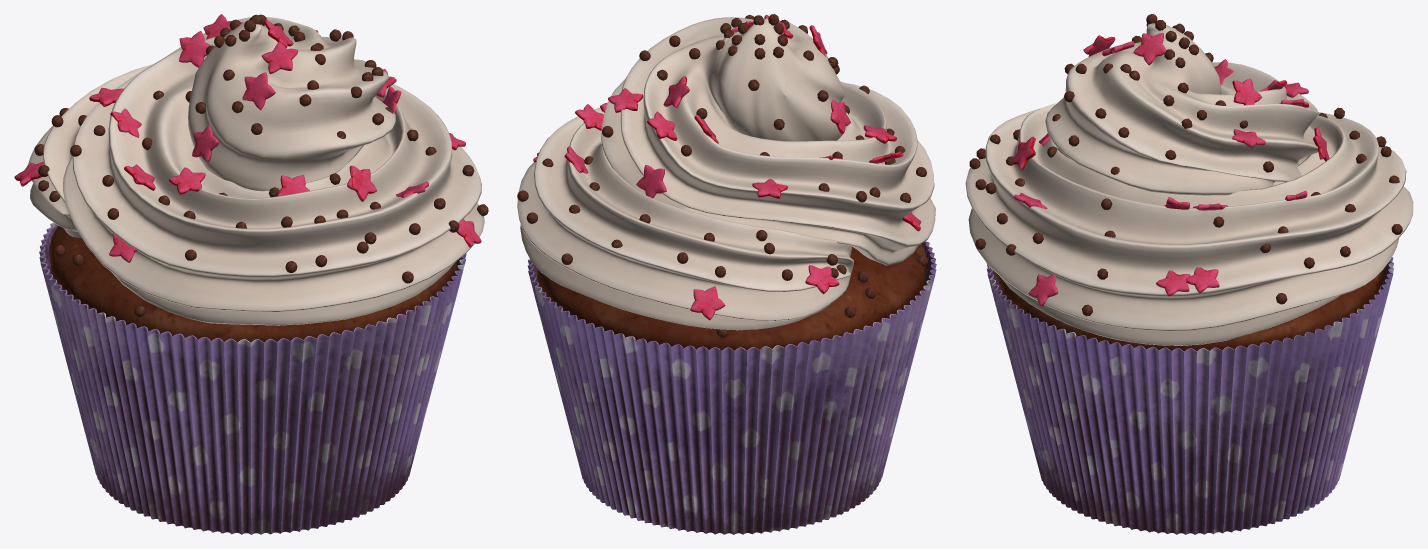
Rendered from cake.glb.
3 renders of one model, left to right at view 1: azimuth 30°, elevation 25°; view 2: azimuth 150°, elevation 25°; view 3: azimuth 270°, elevation 25°, orthographic. The views are drawn at different scales.
Visible parts, largest first — view 1: cupcake; view 2: cupcake; view 3: cupcake.
Boxes of the visible parts, x1=… form: cupcake: x1=14, y1=14, x2=488, y2=534; cupcake: x1=517, y1=14, x2=936, y2=534; cupcake: x1=965, y1=14, x2=1413, y2=534.
Size of the model in its own units: 8.39 by 9.75 by 8.84.
Materials: 1 (1 with a texture image).
